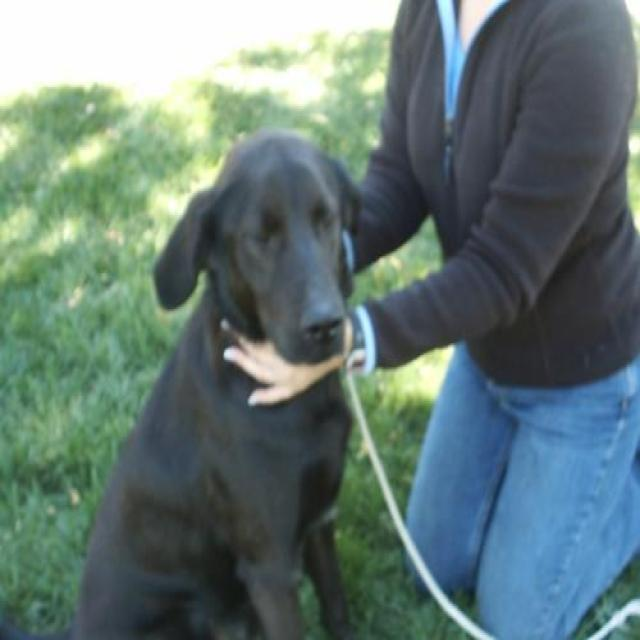Dogs: (0, 125, 366, 638)
